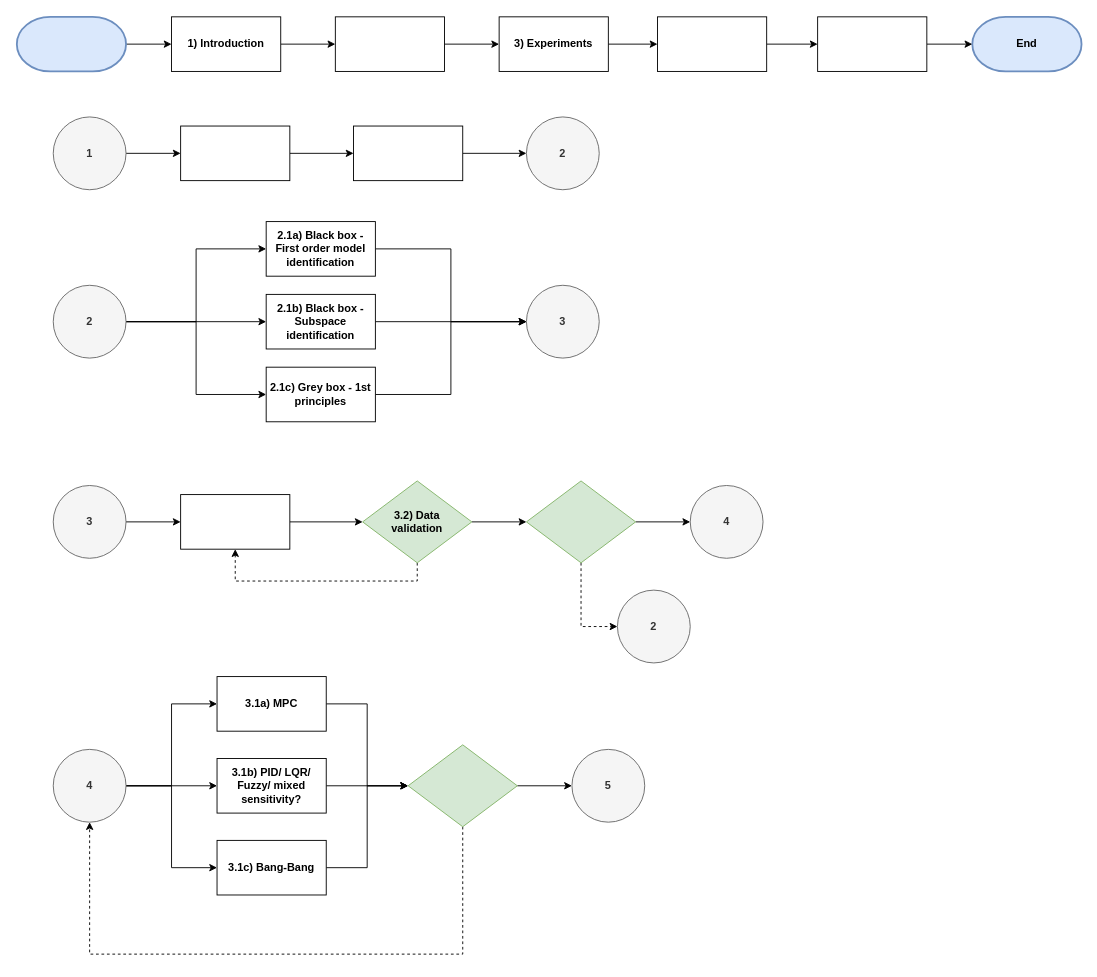
This 1097x977 diagram has some shape labels left out. The centre of each missing label's shape, as x and y in pixels:
1.1) Familiarisation & First tests: point (235, 153)
1.2) Project Planning: point (408, 153)
2) System Identification: point (389, 43)
3.1) Set up & Run experiments: point (235, 521)
3.2) Controller validation: point (462, 785)
3.3) Model validation: point (581, 521)
4) Controller Design: point (712, 43)
5) Report Finalisation: point (872, 43)
Start: point (70, 43)
